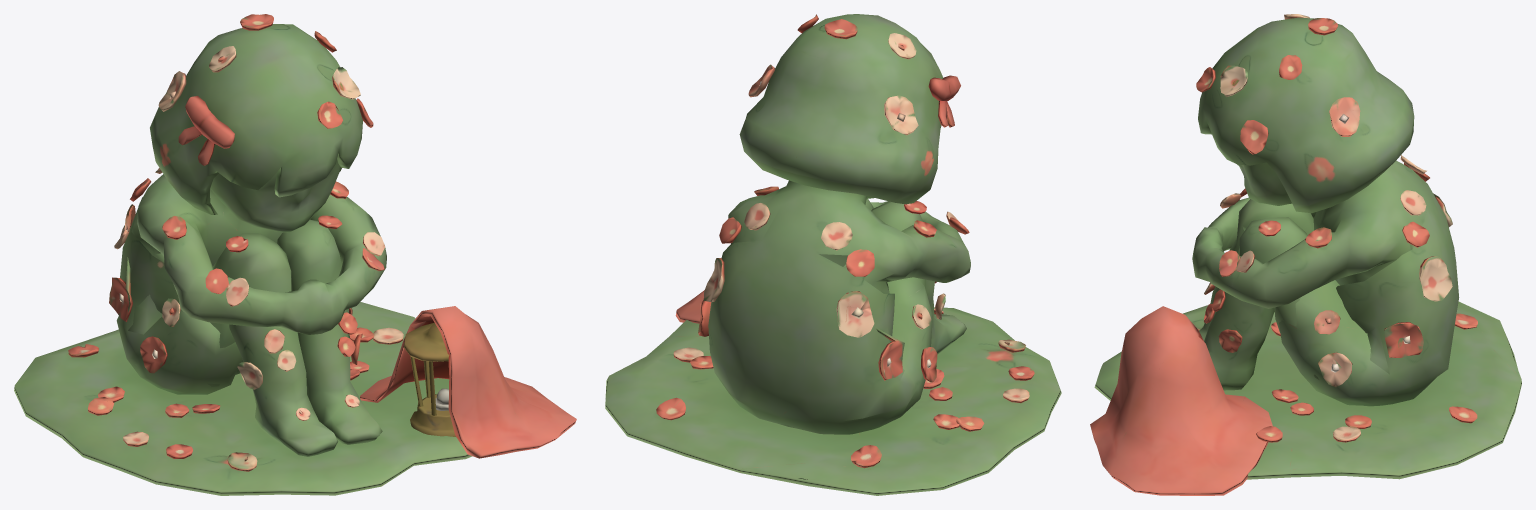
File: aube_meshy.glb
The picture shows the model from 3 angles, left to right: view 1: azimuth 30°, elevation 25°; view 2: azimuth 150°, elevation 25°; view 3: azimuth 270°, elevation 25°; orthographic projection. The views are drawn at different scales.
Parts seen in each view (by area): view 1: geometry_0; view 2: geometry_0; view 3: geometry_0.
Boxes of the visible parts, box(x1,y1,x2,y2) form: geometry_0: box(14, 14, 576, 495); geometry_0: box(605, 14, 1061, 495); geometry_0: box(1090, 14, 1521, 495).
Size of the model in its own units: 1 by 0.9015 by 0.9504.
Materials: 1 (1 with a texture image).
